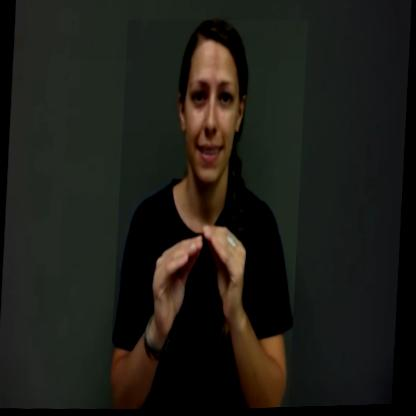Fix: (109, 16, 308, 413)
